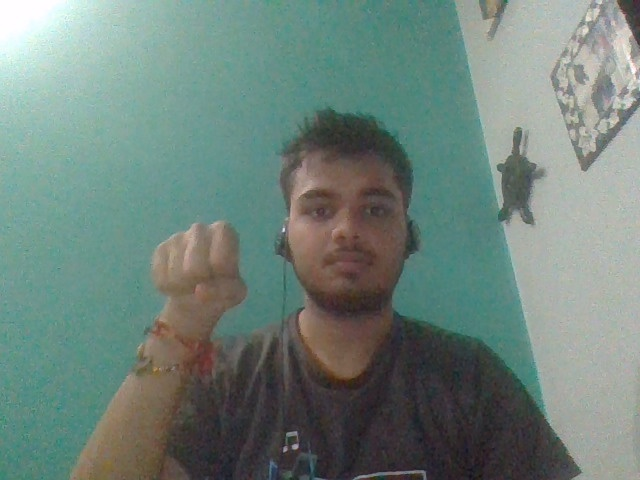yes: (146, 220, 246, 310)
